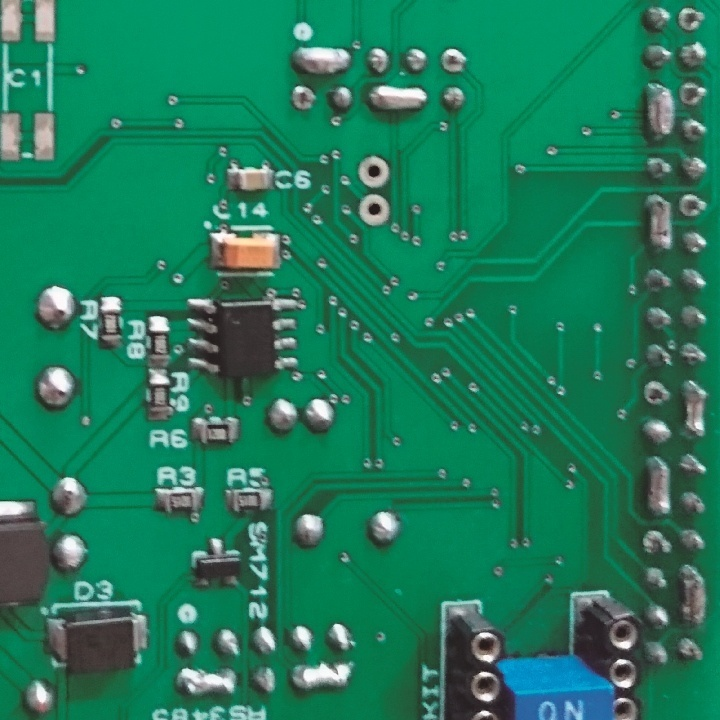F: (357, 194, 392, 231), (357, 152, 390, 189), (439, 46, 471, 78), (642, 526, 672, 560), (287, 83, 318, 115), (679, 78, 709, 109), (643, 378, 670, 409), (678, 5, 708, 32), (679, 191, 707, 219)
P: (173, 666, 246, 700), (364, 81, 432, 117), (642, 79, 677, 148), (289, 42, 352, 79), (678, 372, 709, 443), (645, 189, 674, 258), (678, 559, 706, 629), (293, 663, 353, 695), (645, 452, 672, 520)
